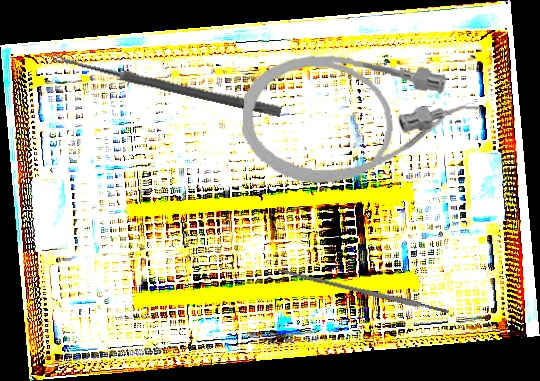Cannula: (239, 50, 483, 192)
Scalpel Handle: (276, 266, 450, 317)
Surgical Spoon: (51, 52, 283, 118)
